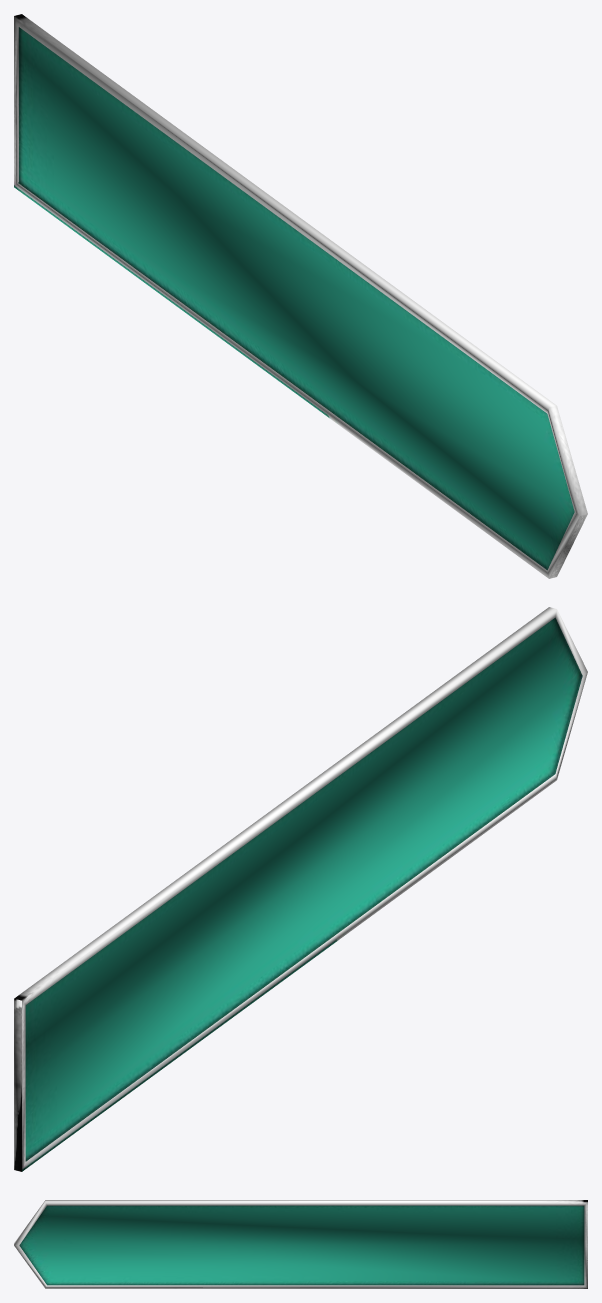
The model's file is nick_metal_sign_post_arm.gltf.
3 views of the same model, one above another, from view 1: azimuth 30°, elevation 25°; view 2: azimuth 150°, elevation 25°; view 3: azimuth 270°, elevation 25° (orthographic). The views are drawn at different scales.
Visible parts, largest first — view 1: metal_post_arm; view 2: metal_post_arm; view 3: metal_post_arm.
Part boxes in pixels (x1,y1,x2,y2): metal_post_arm: (14,14,587,578); metal_post_arm: (14,607,587,1171); metal_post_arm: (14,1200,587,1288).
Bounding box in the file's own units: 0.6837 × 14 × 83.84.
Materials: 1 (1 with a texture image).
